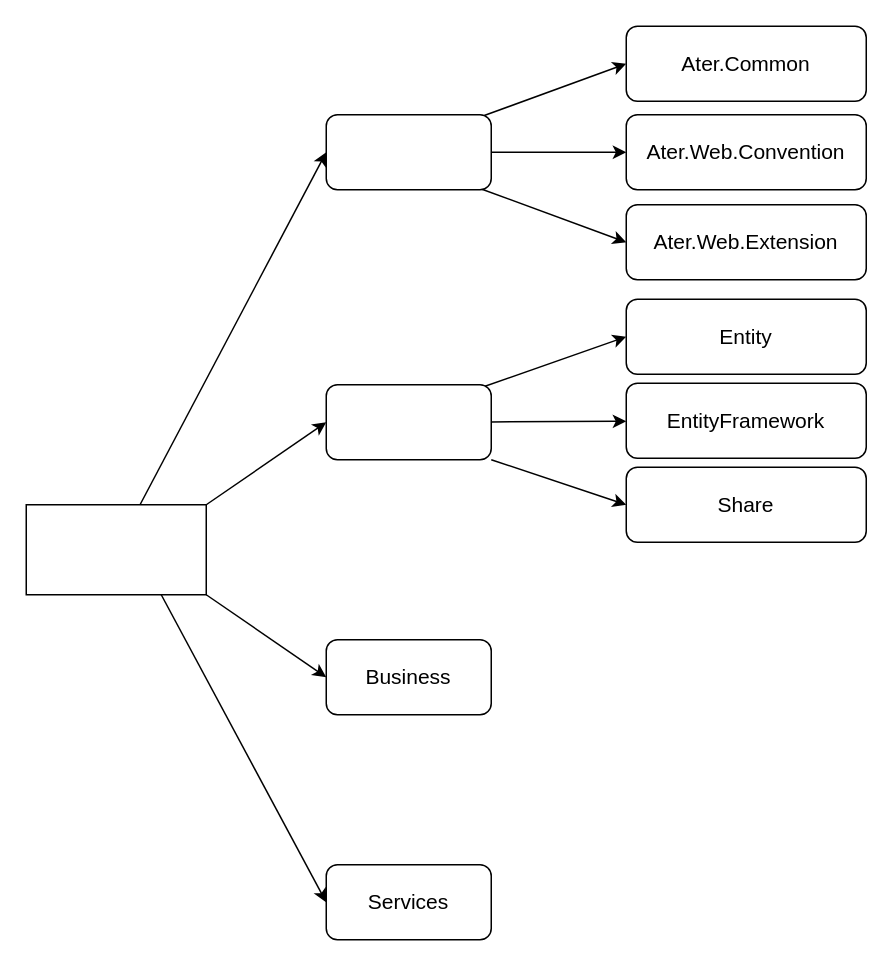
This 893x966 diagram has some shape labels left out. Each missing label, with the box of its shape:
Convention: (325, 113, 491, 190)
Definition: (325, 383, 491, 460)
Project: (25, 503, 206, 595)
